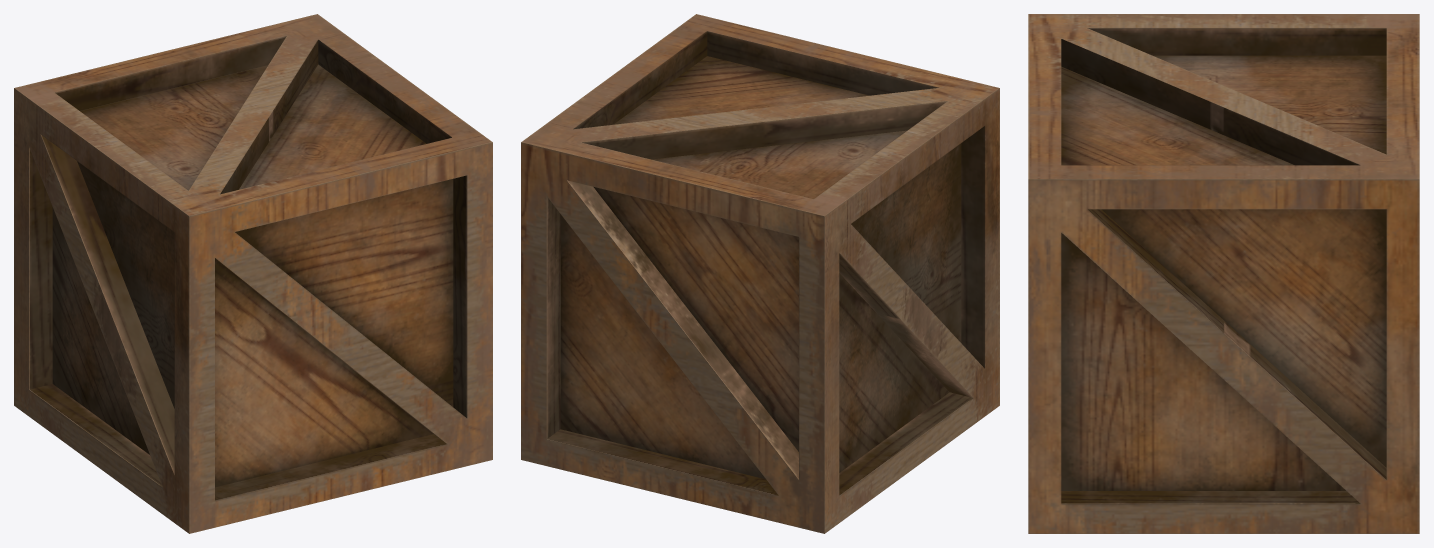
3 views of the same model, side by side, from view 1: azimuth 30°, elevation 25°; view 2: azimuth 150°, elevation 25°; view 3: azimuth 270°, elevation 25° (orthographic). The views are drawn at different scales.
Visible parts, largest first — view 1: Crate 2; view 2: Crate 2; view 3: Crate 2.
Part boxes in pixels (x1,y1,x2,y2): Crate 2: (14, 14, 492, 533); Crate 2: (521, 14, 999, 533); Crate 2: (1028, 14, 1419, 533).
Size of the model in its own units: 83.61 by 83.61 by 83.61.
